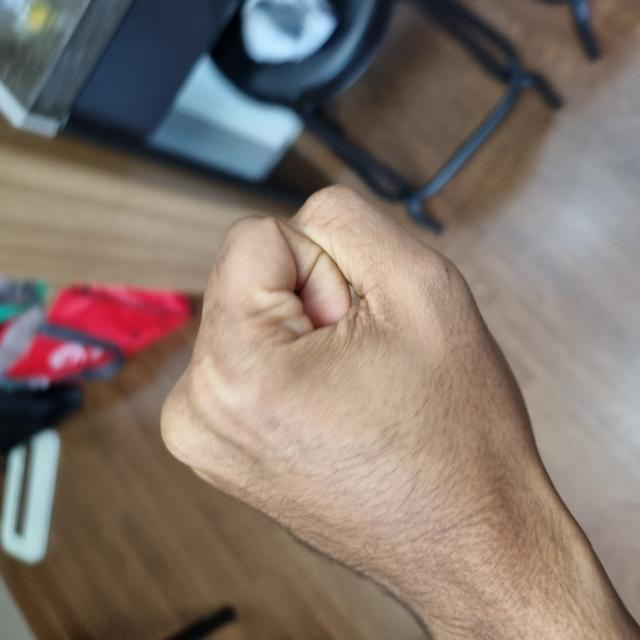Rock: (29, 156, 445, 541)
